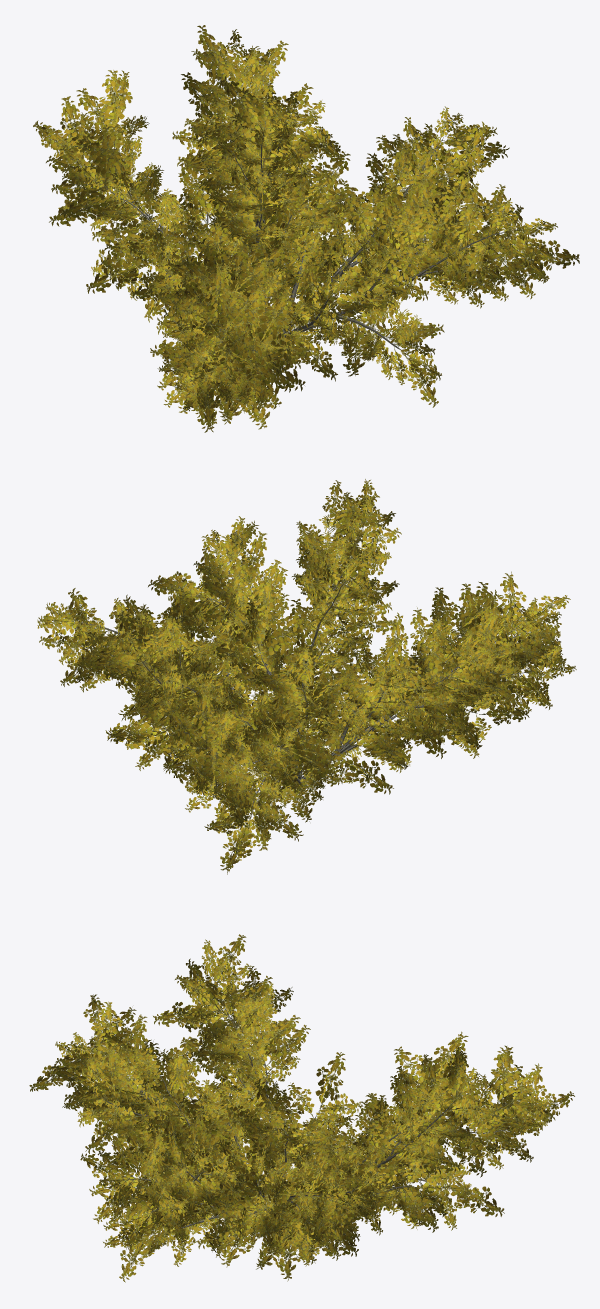
File: ez-bush.glb
3 views of the same model, one above another, from view 1: azimuth 30°, elevation 25°; view 2: azimuth 150°, elevation 25°; view 3: azimuth 270°, elevation 25° (orthographic). The views are drawn at different scales.
Parts seen in each view (by area): view 1: Tree; view 2: Tree; view 3: Tree.
Boxes of the visible parts, box(x1,y1,x2,y2) form: Tree: box(33, 25, 579, 432); Tree: box(37, 479, 576, 874); Tree: box(29, 934, 574, 1282).
Bounding box in the file's own units: 34.05 × 24.24 × 38.87.
2 materials, 2 textured.
